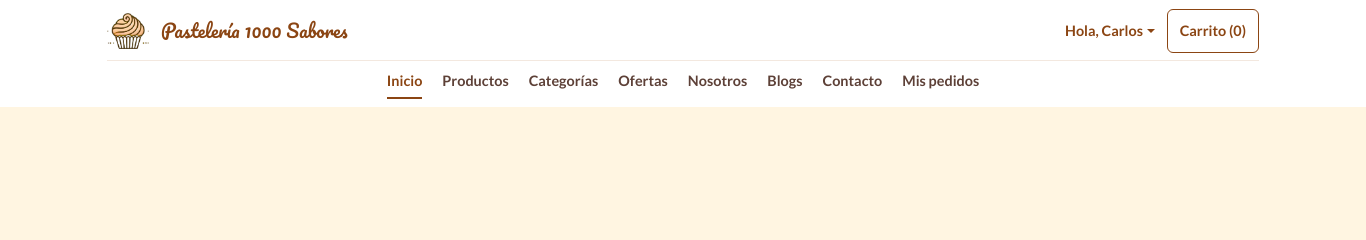
Acceso según el rol › muestra el acceso al panel al Vendedor al abrir su cuenta
This screenshot has width=1366, height=240.
Click the button "Hola, Carlos" at [1110, 31], box [1065,15,1155,47]
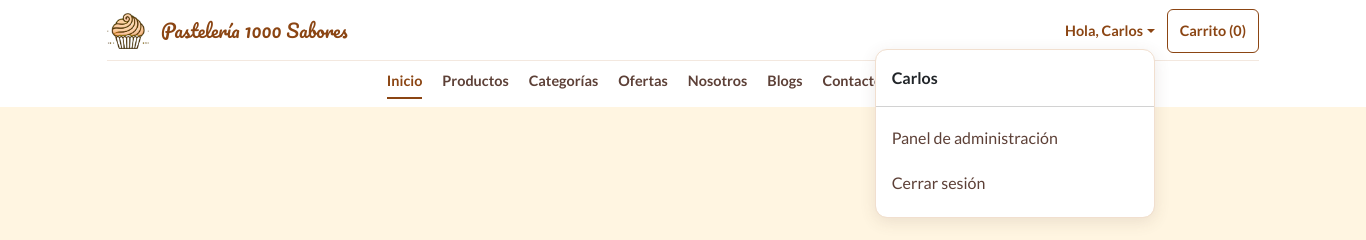
Expected: the link "Panel de administración" is shown, [892,128,1058,147]
